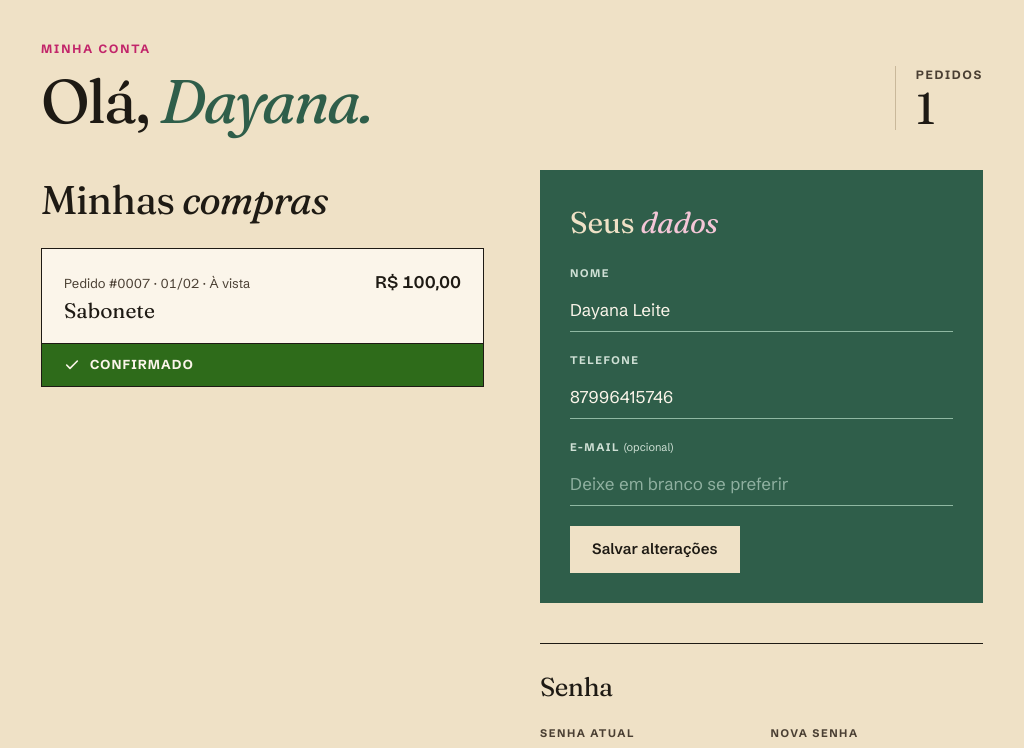
MyAccount › salvar o perfil atualiza o nome na tela sem buscar tudo de novo
This screenshot has width=1024, height=748.
Expected: the heading "Olá, Dayana." is shown, [41,72,371,130]
Replace the text in the field labelled "Nome" with "Marina Souza": (762, 310) [570,288,953,332]
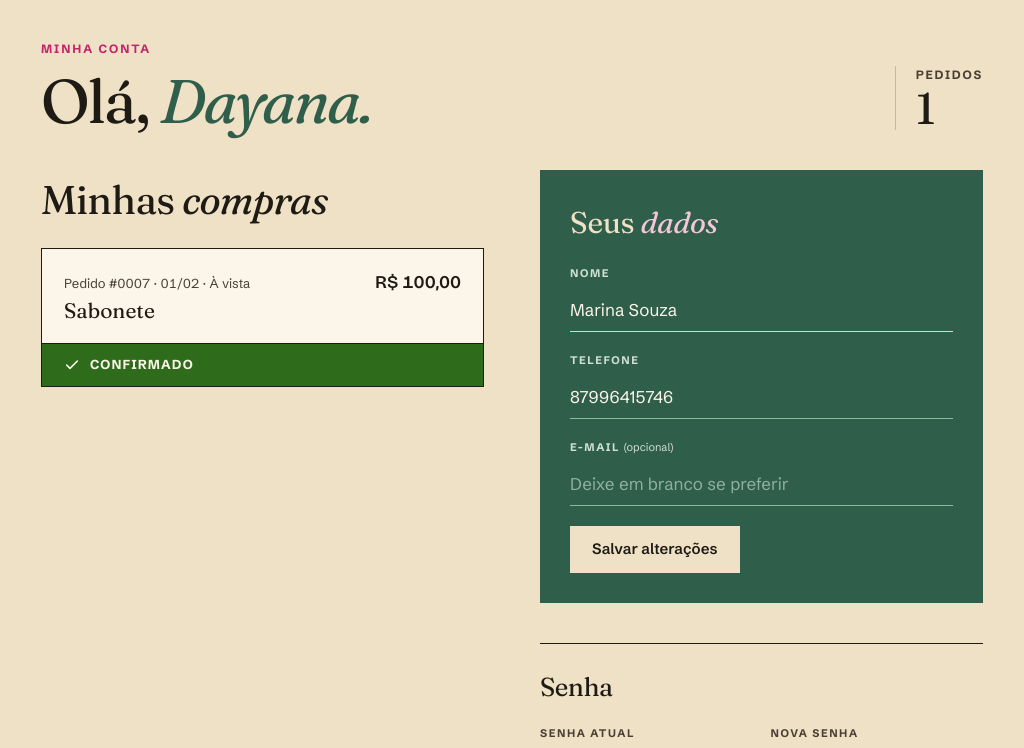
Click the button "Salvar alterações": (655, 550) [570,526,740,573]
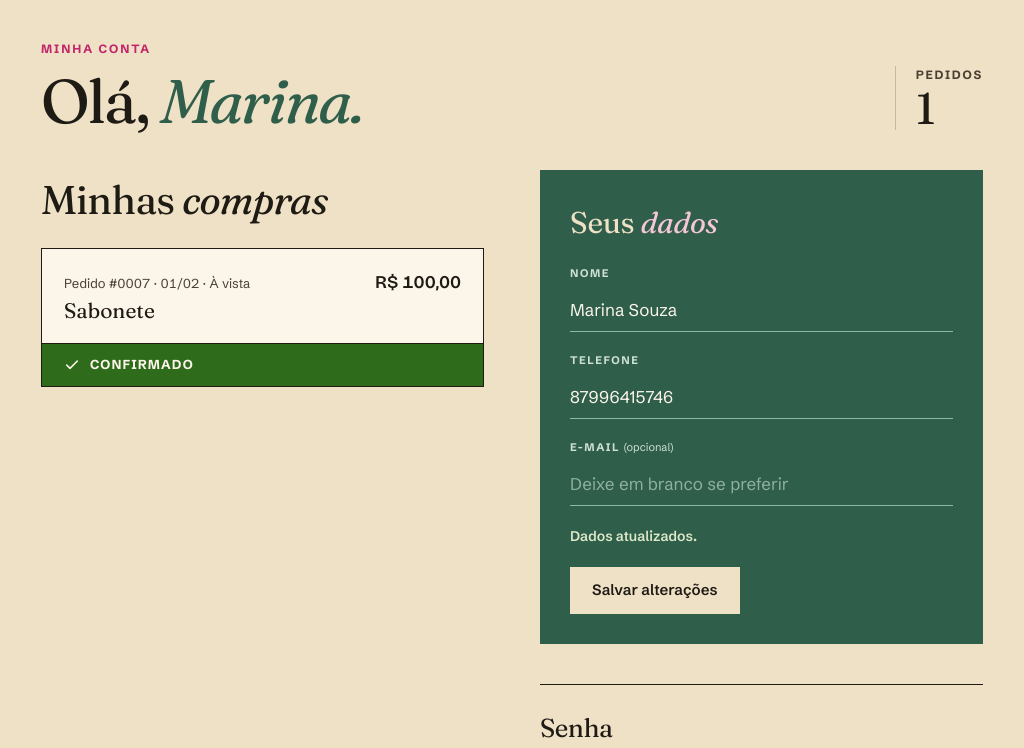
Expected: the text "Sabonete" is shown, [64,297,155,323]
Result: the heading "Olá, Marina." is shown at [41,72,362,130]
